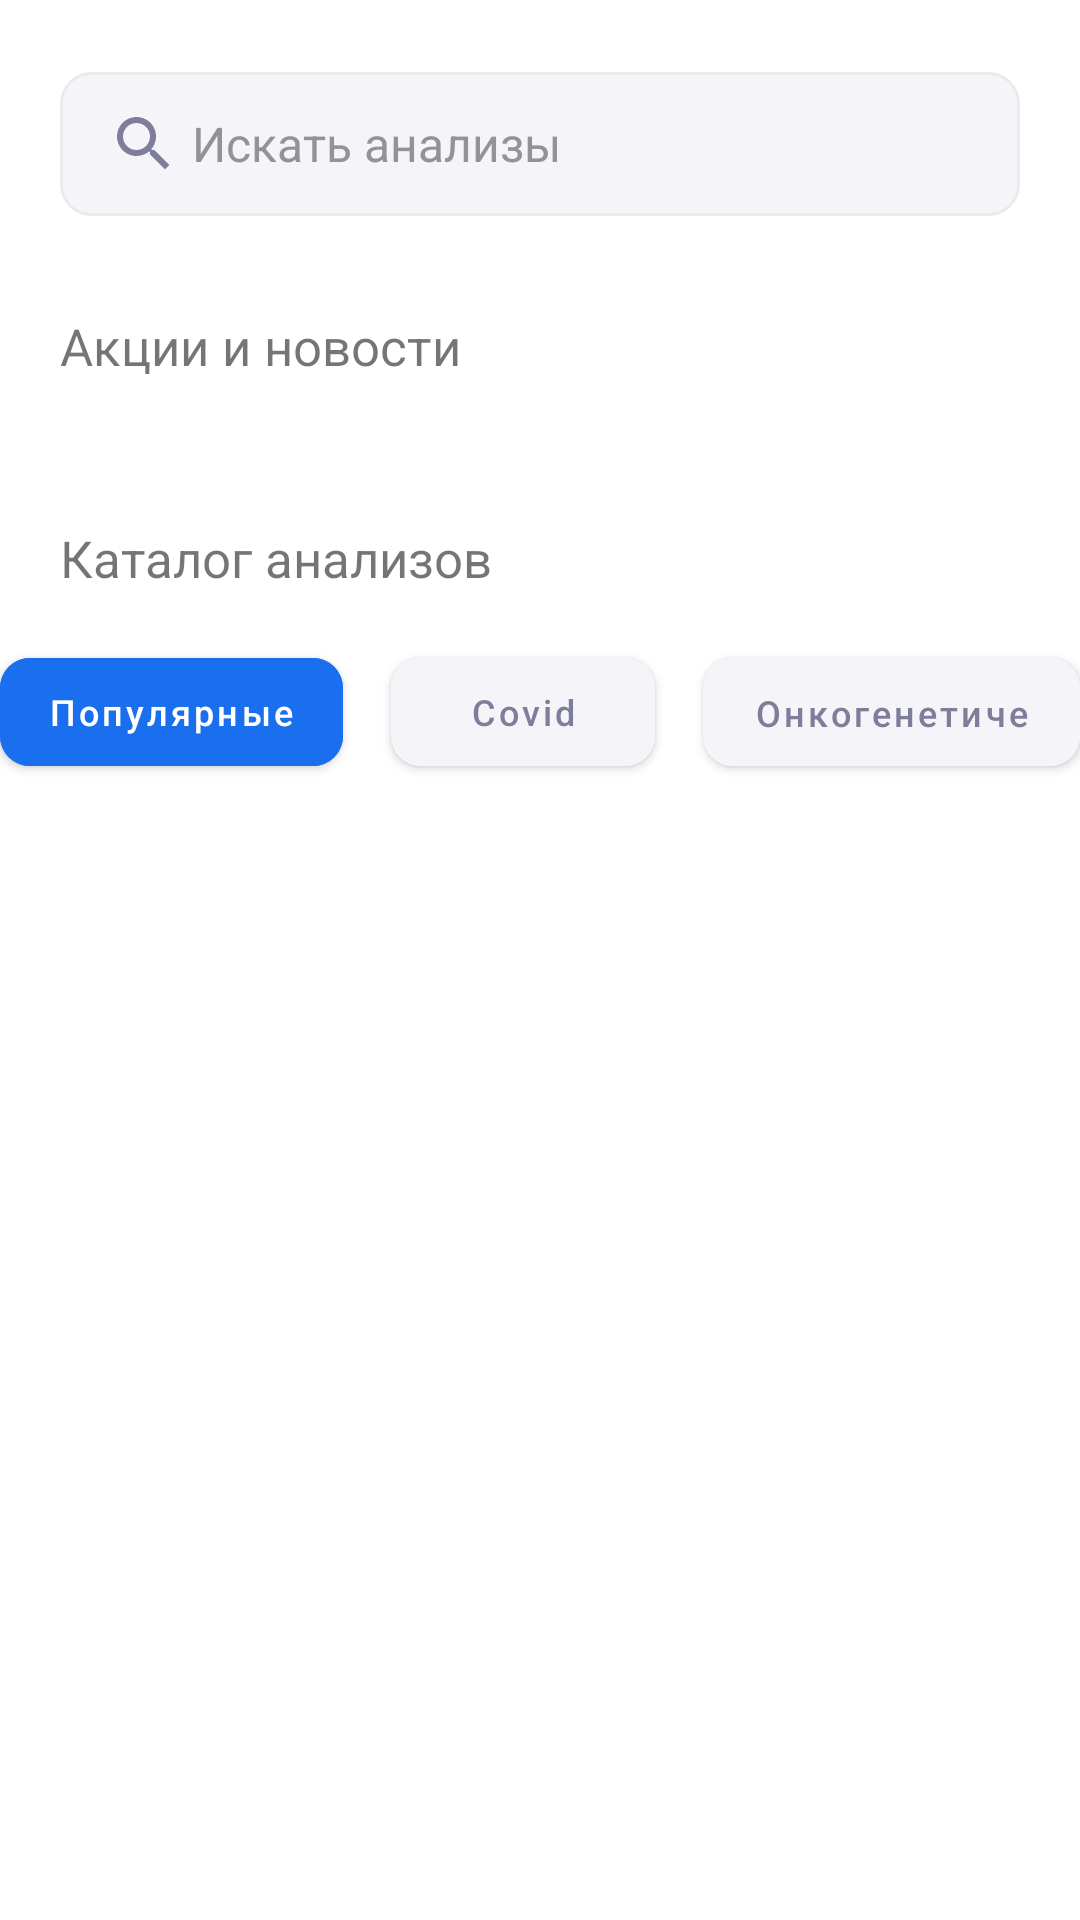

Where to tap for icons on this 1080px×1920px app screen, as (x=x, y=y):
search: (x=143, y=143)
